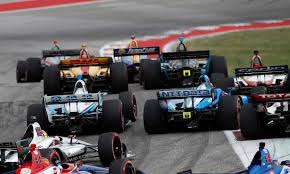FormulaOneCar: (1, 124, 122, 172), (23, 87, 140, 134), (141, 86, 242, 131), (139, 40, 229, 86), (43, 47, 128, 94)
